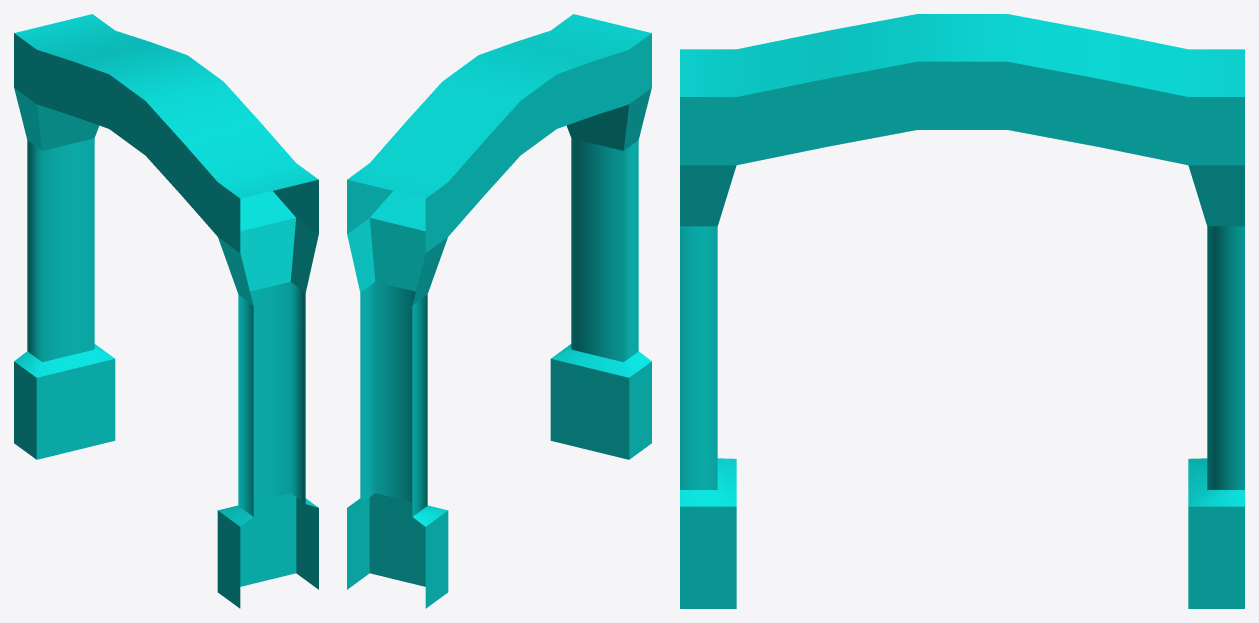
Rendered from arch_low.fbx.
3 renders of one model, left to right at view 1: azimuth 30°, elevation 25°; view 2: azimuth 150°, elevation 25°; view 3: azimuth 270°, elevation 25°, orthographic. The views are drawn at different scales.
Parts seen in each view (by area): view 1: arch_main; view 2: arch_main; view 3: arch_main.
Boxes of the visible parts, x1=… form: arch_main: x1=14, y1=14, x2=318, y2=608; arch_main: x1=347, y1=14, x2=651, y2=608; arch_main: x1=680, y1=14, x2=1244, y2=608.
Bounding box in the file's own units: 0.6 × 3.21 × 3.
